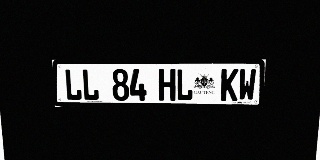4: (129, 69, 147, 101)
8: (112, 69, 129, 101)
H: (159, 69, 176, 101)
K: (220, 69, 239, 101)
L: (64, 69, 82, 101), (82, 69, 99, 101), (176, 69, 193, 101)
W: (238, 69, 256, 101)
